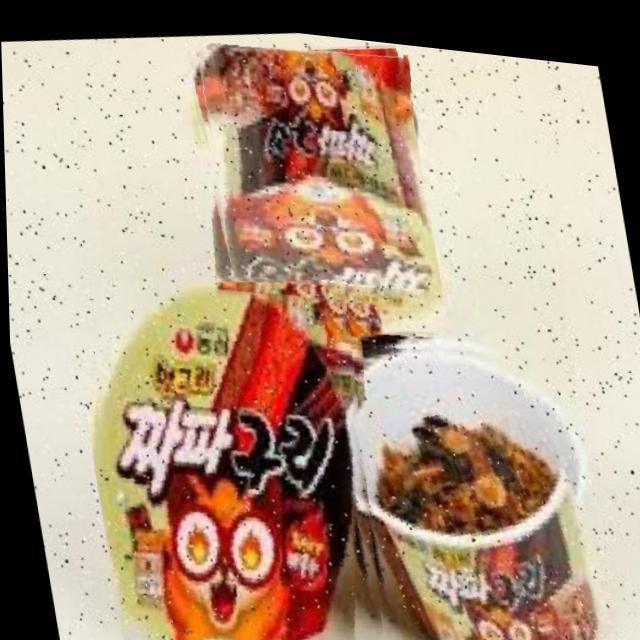Miscellaneous: (62, 246, 407, 640), (308, 299, 622, 640), (178, 16, 448, 353)
